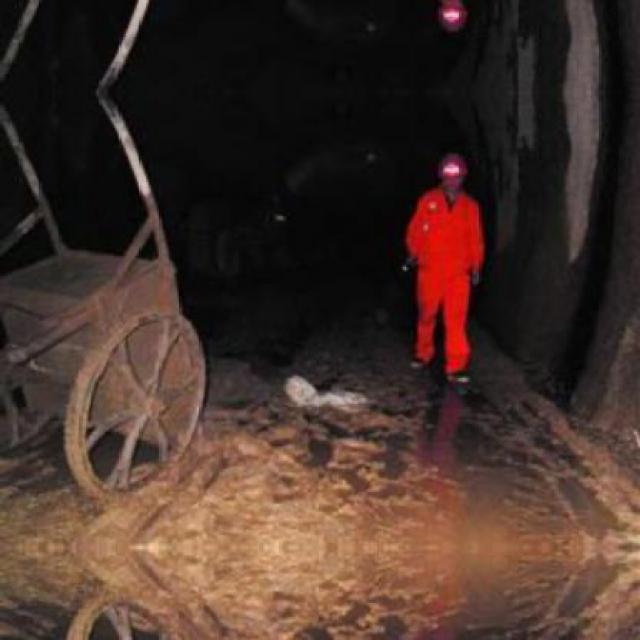helmet: (437, 148, 474, 194), (435, 0, 474, 39)
